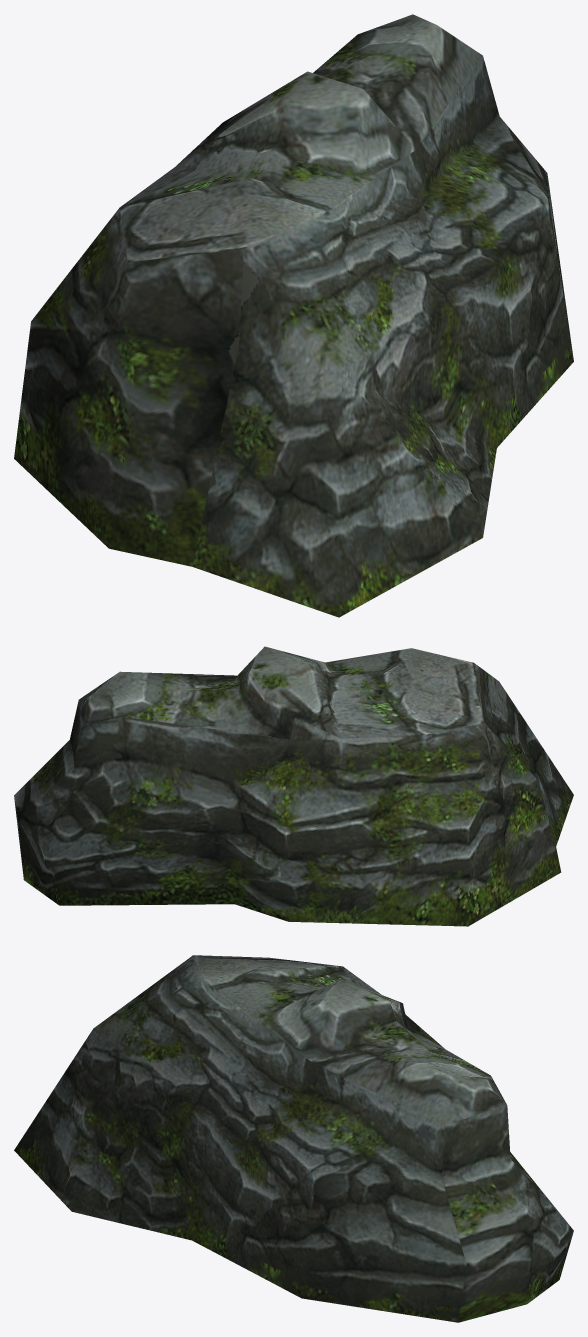
File: Utility_Stone_Maincity12_04_LOD2.FBX
3 views of the same model, one above another, from view 1: azimuth 30°, elevation 25°; view 2: azimuth 150°, elevation 25°; view 3: azimuth 270°, elevation 25° (orthographic). The views are drawn at different scales.
Visible parts, largest first — view 1: Utility_Stone_Maincity12_04_LOD2; view 2: Utility_Stone_Maincity12_04_LOD2; view 3: Utility_Stone_Maincity12_04_LOD2.
Part boxes in pixels (x1=…): Utility_Stone_Maincity12_04_LOD2: x1=14, y1=14, x2=573, y2=617; Utility_Stone_Maincity12_04_LOD2: x1=14, y1=646, x2=573, y2=926; Utility_Stone_Maincity12_04_LOD2: x1=14, y1=955, x2=573, y2=1322.
Bounding box in the file's own units: 4248 × 2065 × 4477.
